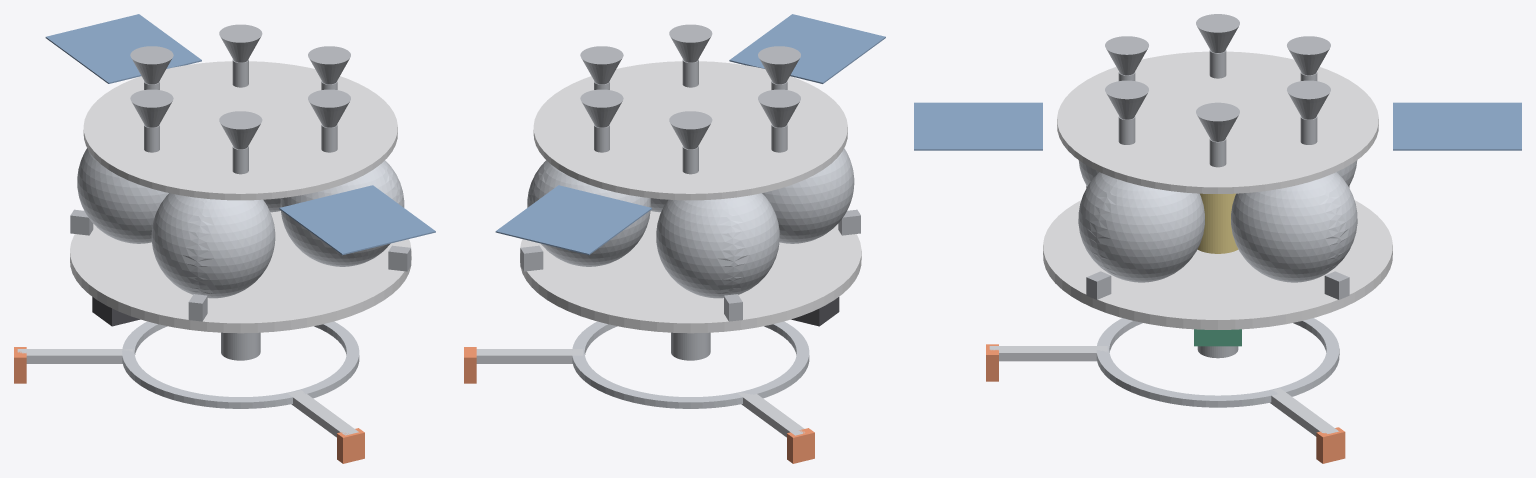
File: v6_kit_sl16_deployed.glb
The picture shows the model from 3 angles, left to right: view 1: azimuth 30°, elevation 25°; view 2: azimuth 150°, elevation 25°; view 3: azimuth 270°, elevation 25°; orthographic projection. The views are drawn at different scales.
Parts seen in each view (by area): view 1: top, deck, tank_2, panel_b, panel_a, tank_1, clamp_ring, tank_3, engine_1, engine_4, engine_5, engine_3 (+11 smaller); view 2: top, deck, tank_1, panel_a, panel_b, tank_2, clamp_ring, tank_0, engine_5, engine_2, engine_3, engine_1 (+11 smaller); view 3: top, deck, tank_0, tank_3, panel_a, panel_b, clamp_ring, bottle, arm_2, engine_0, engine_1, engine_3 (+8 smaller).
Boxes of the visible parts, bbox=[...] form: top: bbox=[83, 61, 397, 200]; deck: bbox=[70, 211, 411, 333]; tank_2: bbox=[151, 193, 275, 298]; panel_b: bbox=[279, 185, 435, 255]; panel_a: bbox=[45, 14, 201, 83]; tank_1: bbox=[77, 148, 168, 243]; clamp_ring: bbox=[122, 321, 359, 408]; tank_3: bbox=[280, 160, 404, 266]; engine_1: bbox=[219, 24, 262, 87]; engine_4: bbox=[219, 111, 262, 174]; engine_5: bbox=[308, 89, 350, 152]; engine_3: bbox=[130, 89, 173, 152]; top: bbox=[533, 61, 847, 200]; deck: bbox=[520, 211, 861, 333]; tank_1: bbox=[656, 193, 779, 298]; panel_a: bbox=[495, 185, 651, 255]; panel_b: bbox=[729, 14, 885, 83]; tank_2: bbox=[762, 148, 854, 243]; clamp_ring: bbox=[572, 321, 809, 408]; tank_0: bbox=[527, 160, 650, 266]; engine_5: bbox=[669, 24, 712, 87]; engine_2: bbox=[669, 111, 712, 174]; engine_3: bbox=[758, 89, 800, 152]; engine_1: bbox=[580, 89, 623, 152]; top: bbox=[1057, 51, 1378, 193]; deck: bbox=[1043, 200, 1392, 329]; tank_0: bbox=[1231, 172, 1357, 282]; tank_3: bbox=[1078, 172, 1204, 282]; panel_a: bbox=[1393, 102, 1521, 150]; panel_b: bbox=[914, 102, 1042, 150]; clamp_ring: bbox=[1096, 318, 1339, 407]; bottle: bbox=[1197, 193, 1238, 253]; arm_2: bbox=[989, 346, 1107, 361]; engine_0: bbox=[1196, 102, 1239, 167]; engine_1: bbox=[1287, 80, 1330, 144]; engine_3: bbox=[1196, 14, 1239, 78].
Bounding box in the file's own units: 2.25 × 1.85 × 3.3.
